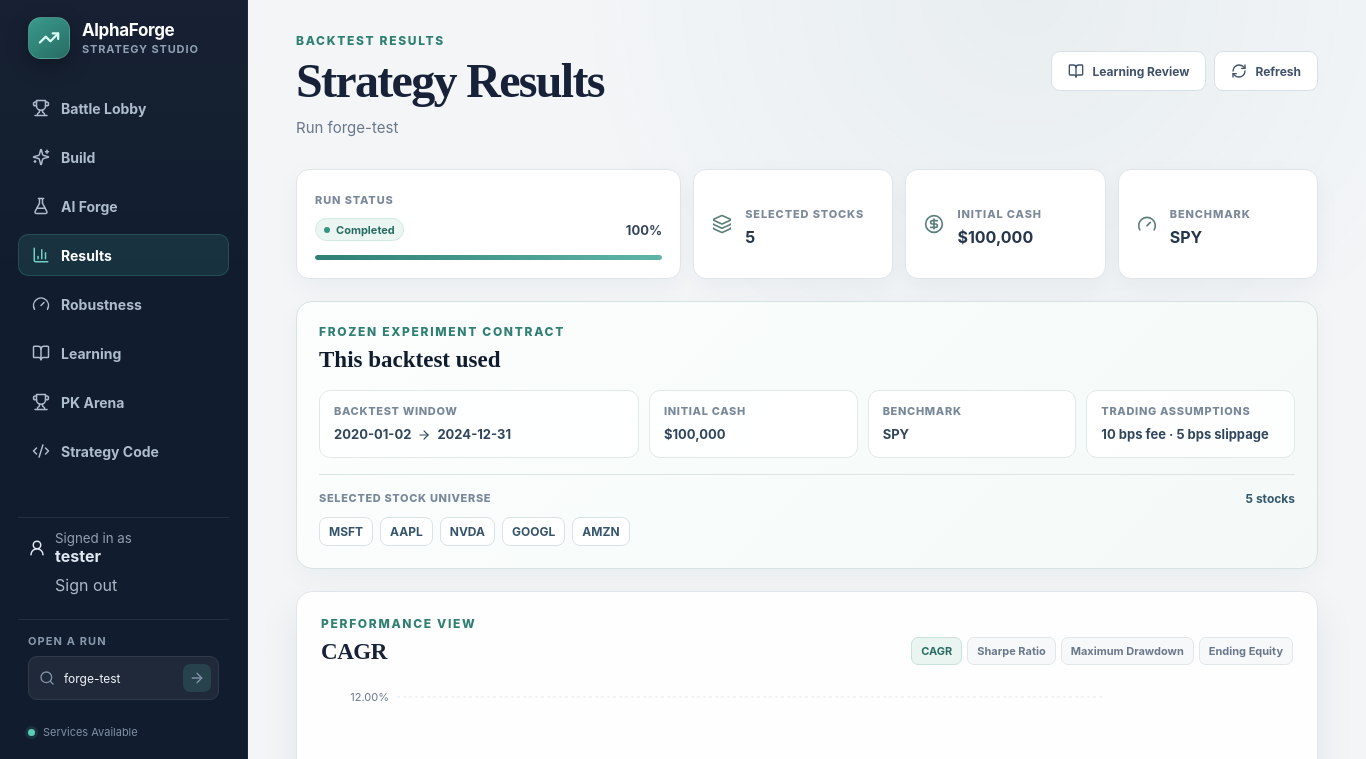
Test: AlphaForge Studio › shows the parameter-template AI workflow without Human leakage
Expected: the heading "Strategy Results" is shown, [296,56,604,106]
Click the button "AI Forge".
click(124, 206)  # box [18,185,229,227]
(page scrolled)
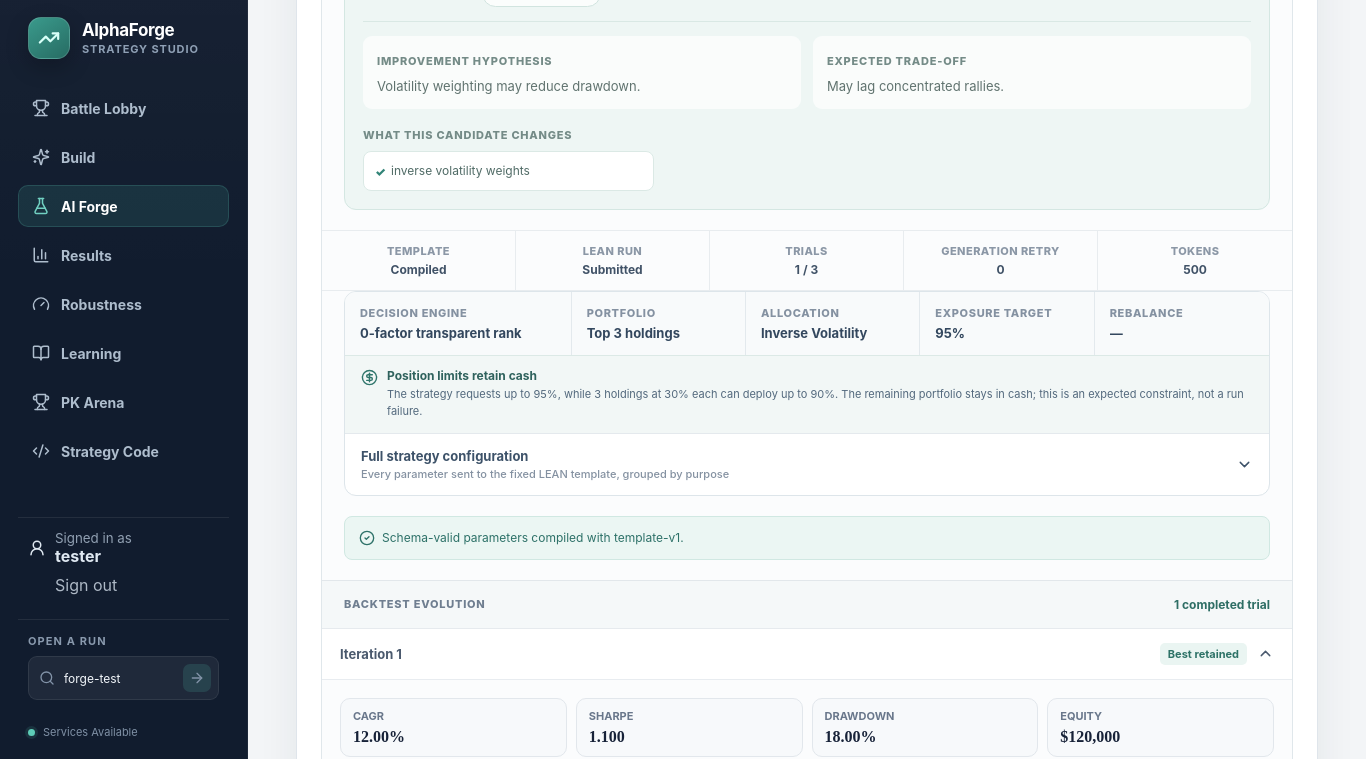
Now the text "Schema-valid parameters compiled with template-v1." is shown, box [344,516,1270,560]
Now the text "Position limits retain cash" is shown, box [387,368,537,383]
